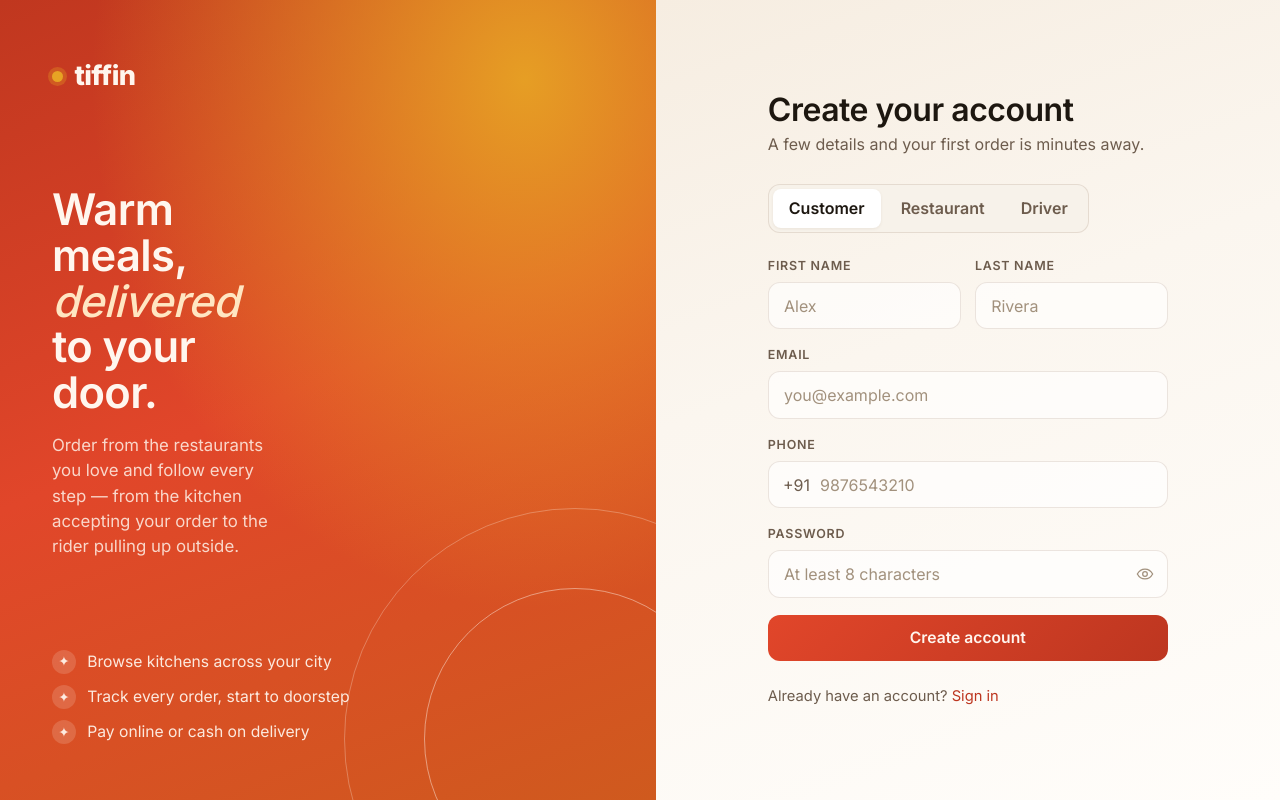
Scenario: RegisterPage input filtering › strips digits typed into the first name
In the field labelled "First name": [864, 306] box x1=768 y1=282 x2=961 y2=329, type "Alex1"
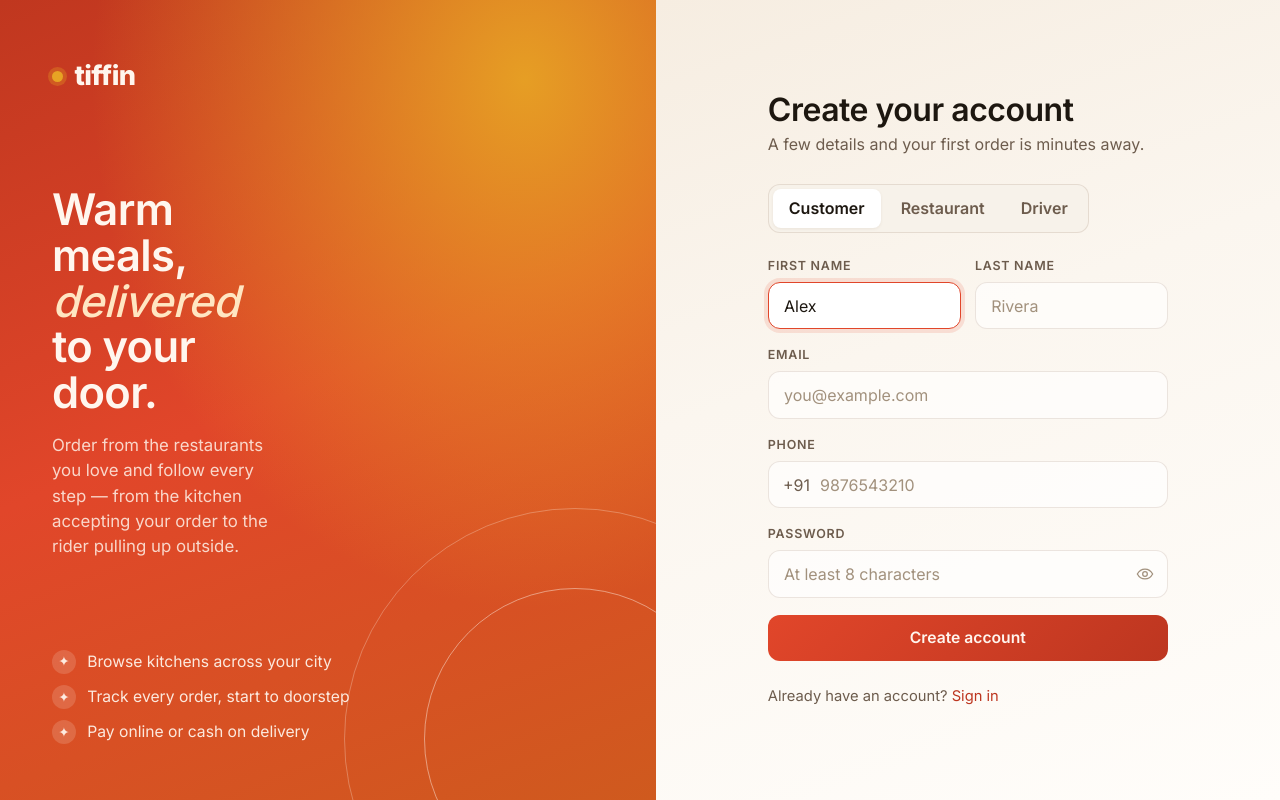
Expected: the field labelled "First name" holds "Alex", x1=768 y1=282 x2=961 y2=329
